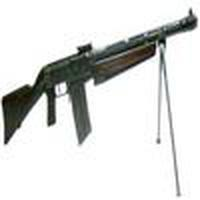gun: (1, 11, 197, 150)
